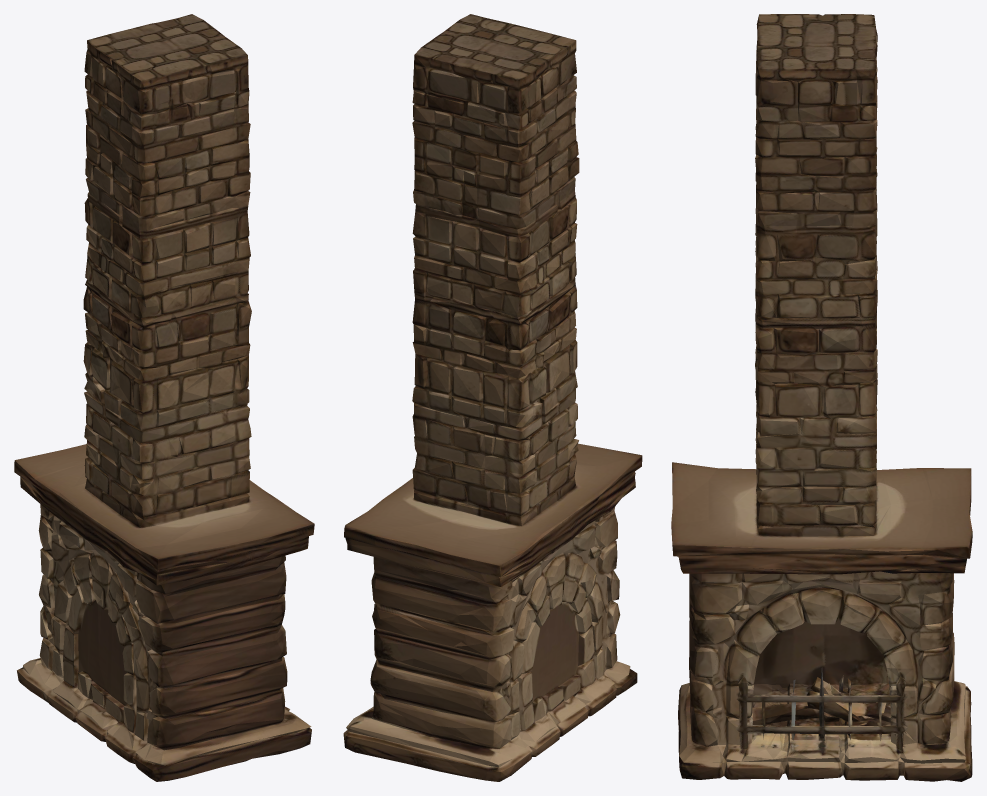
File: stone+fireplace+3d+model.fbx
The picture shows the model from 3 angles, left to right: view 1: azimuth 30°, elevation 25°; view 2: azimuth 150°, elevation 25°; view 3: azimuth 270°, elevation 25°; orthographic projection. The views are drawn at different scales.
Parts seen in each view (by area): view 1: tripo_node_514c42bf; view 2: tripo_node_514c42bf; view 3: tripo_node_514c42bf.
Boxes of the visible parts, <box> form: tripo_node_514c42bf: <box>14,14,314,781</box>; tripo_node_514c42bf: <box>343,14,642,781</box>; tripo_node_514c42bf: <box>671,14,972,781</box>.
Bounding box in the file's own units: 0.2555 × 1 × 0.3894.
Materials: 1 (1 with a texture image).
